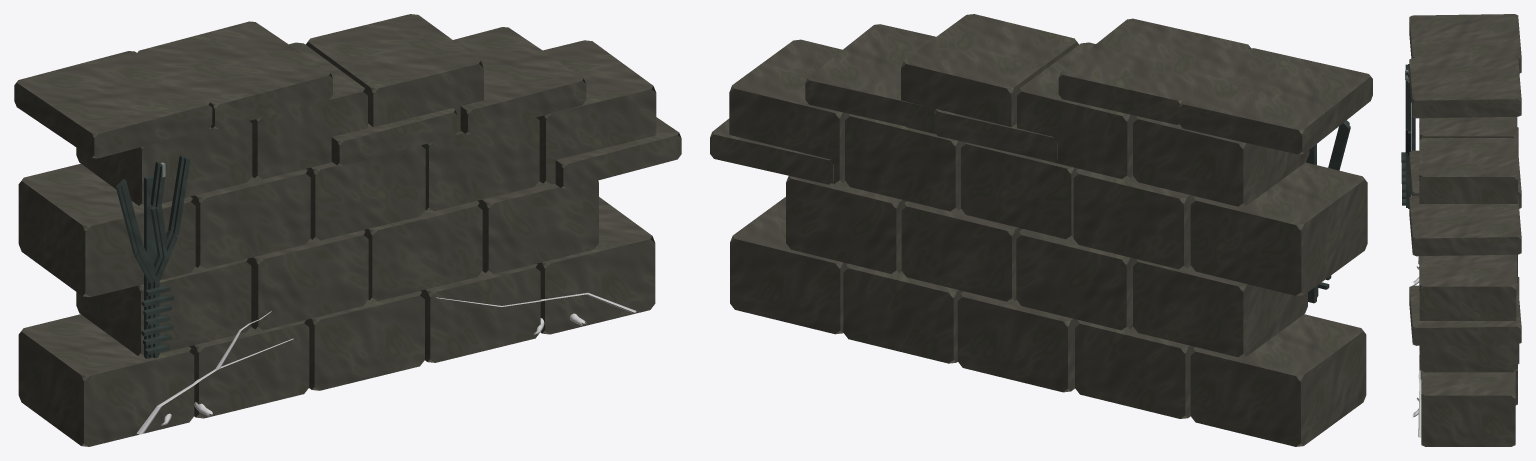
Rendered from cataclysm_upland_wall-lod0.gltf.
The picture shows the model from 3 angles, left to right: view 1: azimuth 30°, elevation 25°; view 2: azimuth 150°, elevation 25°; view 3: azimuth 270°, elevation 25°; orthographic projection. The views are drawn at different scales.
Visible parts, largest first — view 1: cataclysm_upland_wall LOD0 cataclysm_upland_wall, cataclysm_upland_wall LOD0 cataclysm_upland_wall roots attac; view 2: cataclysm_upland_wall LOD0 cataclysm_upland_wall; view 3: cataclysm_upland_wall LOD0 cataclysm_upland_wall, cataclysm_upland_wall LOD0 cataclysm_upland_wall roots attac.
Boxes of the visible parts, bbox=[...] form: cataclysm_upland_wall LOD0 cataclysm_upland_wall: bbox=[14, 14, 681, 446]; cataclysm_upland_wall LOD0 cataclysm_upland_wall roots attac: bbox=[136, 292, 636, 434]; cataclysm_upland_wall LOD0 cataclysm_upland_wall: bbox=[710, 14, 1372, 446]; cataclysm_upland_wall LOD0 cataclysm_upland_wall: bbox=[1401, 14, 1521, 446]; cataclysm_upland_wall LOD0 cataclysm_upland_wall roots attac: bbox=[1418, 256, 1421, 437].
Size of the model in its own units: 3.05 by 1.56 by 0.7398.
